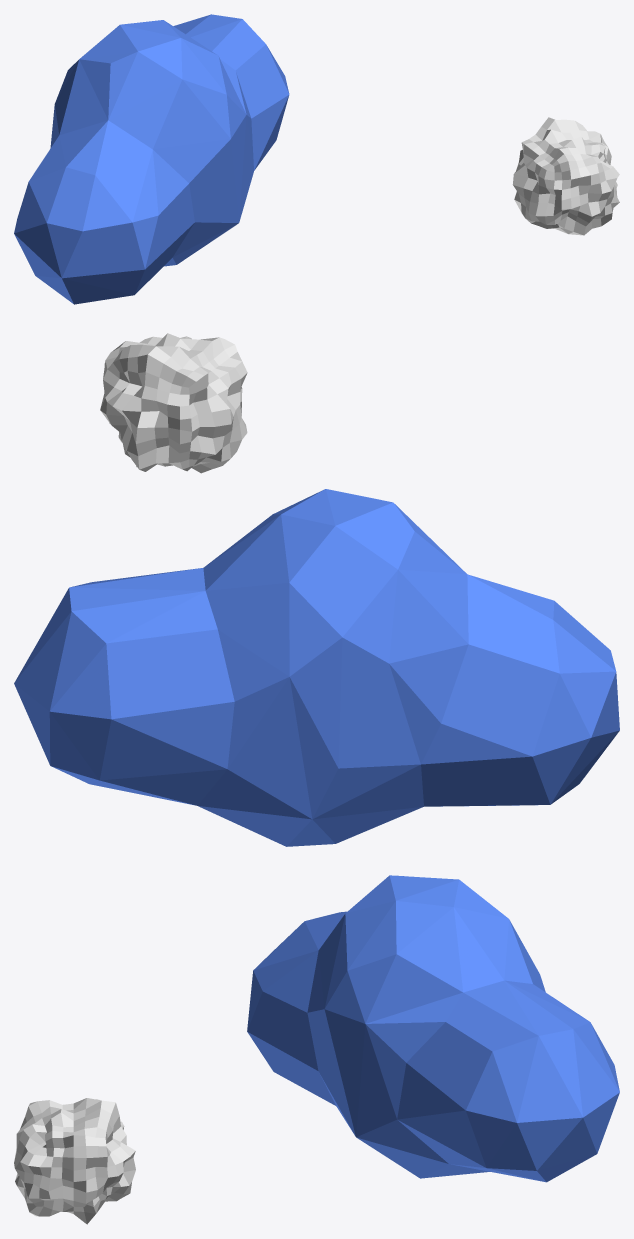
3 renders of one model, top to bottom at view 1: azimuth 30°, elevation 25°; view 2: azimuth 150°, elevation 25°; view 3: azimuth 270°, elevation 25°, orthographic. The views are drawn at different scales.
Parts seen in each view (by area): view 1: Cloud, Cube; view 2: Cloud, Cube; view 3: Cloud, Cube.
Boxes of the visible parts, x1,y1,x2,y2 form: Cloud: (14, 14, 289, 304); Cube: (512, 117, 619, 235); Cloud: (14, 489, 619, 846); Cube: (100, 333, 247, 473); Cloud: (247, 875, 619, 1182); Cube: (14, 1098, 135, 1224).
Size of what is drawn, in the model's own units: 5.58 by 2.6 by 5.33.
